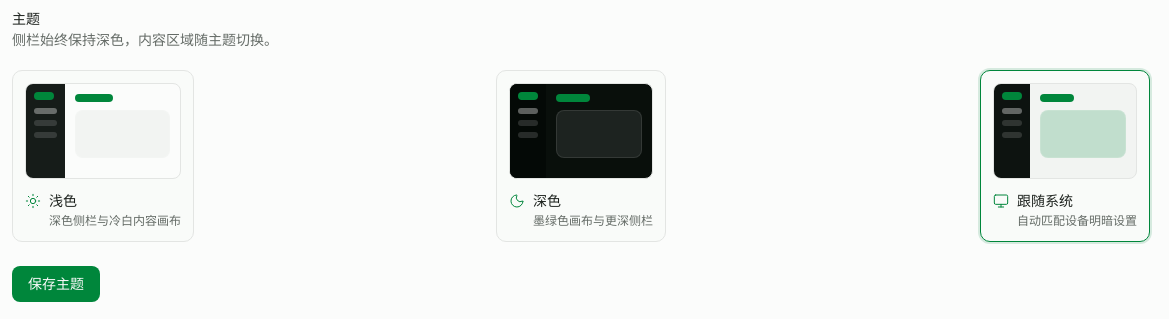
it: AppearanceForm › switches the theme when a card is clicked
The width and height of the screenshot is (1169, 319).
Expected: the radio button named "浅色" is not checked, [11,148,27,164]
Note: 点击卡片文字区域应切换主题（回归：此前 FormLabel htmlFor 指向 radiogroup 根，点击无效）
What coordinates should you click on to do the following:
click the text "浅色"
I would click on:
 (63, 201)
Its box is [49,193,77,209].
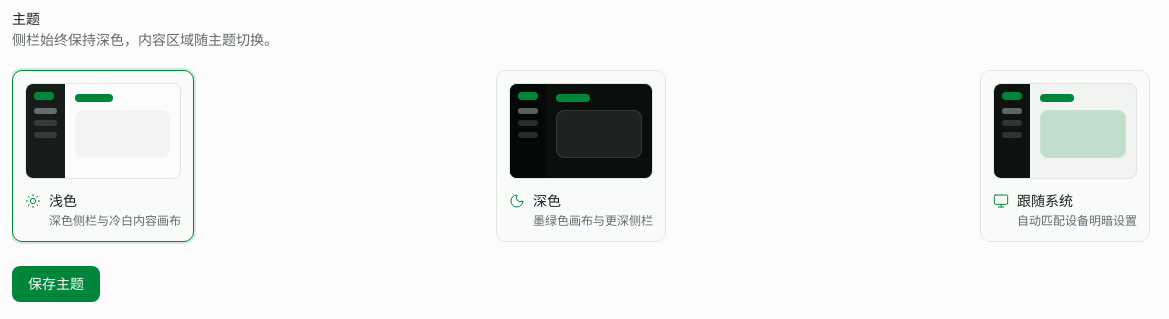
Now the radio button named "浅色" is checked, box [11,148,27,164]
